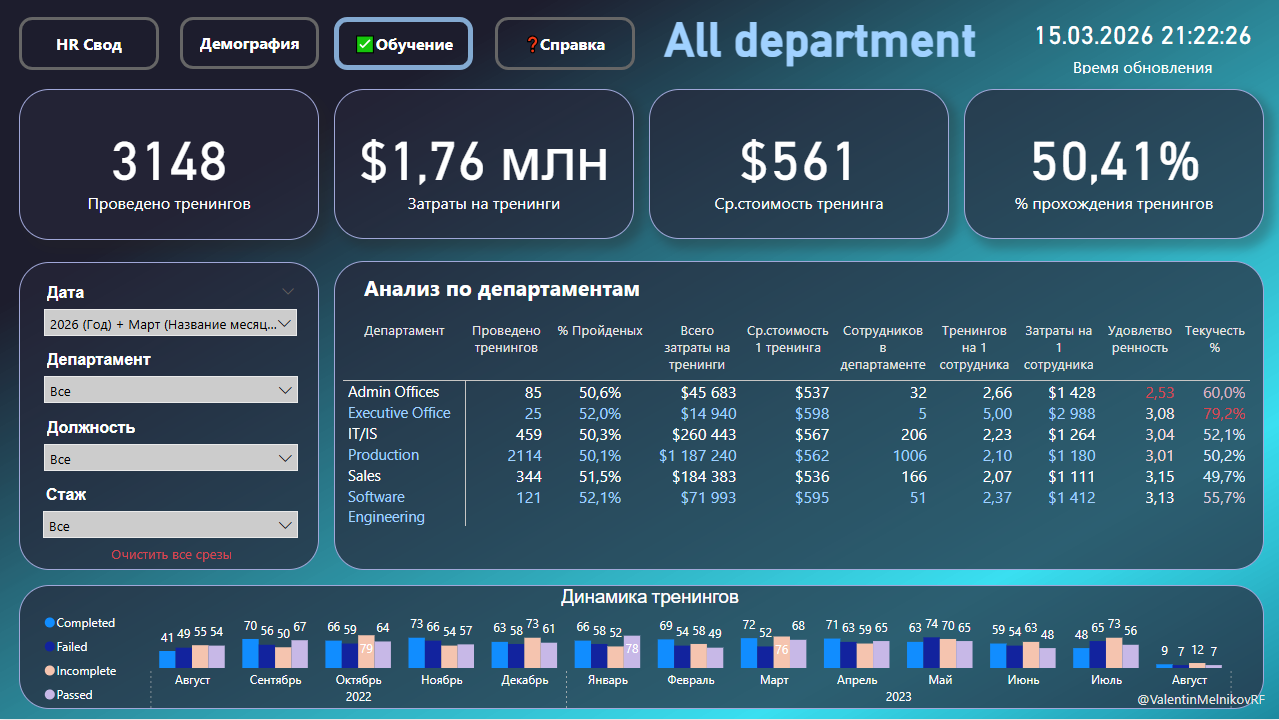

The page's visual inventory and layout, read from the dashboard file:
{"tool":"powerbi","page":{"name":"Обучение","canvas":[1280,720],"ordinal":2},"visuals":[{"type":"textbox","box":[20,586,1245,124],"z":0},{"type":"textbox","box":[20,263,300,308],"z":1000},{"type":"card","fields":{"Values":["Меры.Тренинг Всего"]},"box":[20.3,90.4,300,150.6],"z":2000},{"type":"card","fields":{"Values":["Меры.Тренинг Стоимость"]},"box":[335.3,90.4,300,150],"z":3000},{"type":"textbox","box":[1132.5,685.5,147,34.9],"z":4000},{"type":"card","fields":{"Values":["Меры.Тренинг Ср.стоимость"]},"box":[650.3,90.4,300,150],"z":5000},{"type":"card","fields":{"Values":["Меры.Тренинг % пройден"]},"box":[965.3,90.4,300,150],"z":6000},{"type":"slicer","fields":{"Values":["Календарь.Год","Календарь.Название месяца","Календарь.Дата"]},"box":[34.9,279.5,273.5,67.5],"z":7000},{"type":"textbox","box":[334.9,262.1,930,309.4],"z":8000},{"type":"slicer","fields":{"Values":["employees.department_type"]},"box":[35,347.1,274.5,67.5],"z":9000},{"type":"slicer","fields":{"Values":["employees.job_function"]},"box":[35,414.6,274.5,67.5],"z":10000},{"type":"slicer","fields":{"Values":["employees.Tenure Group"]},"box":[34,482,275,78],"z":11000},{"type":"clusteredColumnChart","title":"Динамика тренингов","fields":{"Series":["trainings.training_outcome"],"Y":["Count(trainings.trainer_id)"],"Category":["trainings.training_date.Изменение.Иерархия дат.Год","trainings.training_date.Изменение.Иерархия дат.Месяц","trainings.training_date.Изменение.Иерархия дат.День"]},"box":[39.5,587.4,1222.2,132.6],"z":12000},{"type":"actionButton","box":[82,539,181,32],"z":13000},{"type":"textbox","box":[360.4,268.7,424.8,44.5],"z":14000},{"type":"pivotTable","fields":{"Rows":["employees.department_type"],"Values":["Меры.Тренинг Всего","Меры.Тренинг % пройден","Меры.Тренинг Стоимость","Меры.Тренинг Ср.стоимость","Меры.Активные сотрудники","Меры.Тренинг на 1 человека","Меры.Тренинг стоимость на 1 сотрудника","Меры.Удовлетворенность","Меры.Текучесть %"]},"box":[338.7,316.9,923.3,261.1],"z":15000},{"type":"card","fields":{"Values":["Min(Время обновления.Дата последнего обновления)"]},"box":[1021.7,9.6,243.4,69.9],"z":16000},{"type":"card","fields":{"Values":["Меры.Департамент"]},"box":[635.7,9.7,371.4,70.2],"z":17000},{"type":"actionButton","box":[19.9,18,140,53],"z":18000},{"type":"actionButton","box":[180.9,17.6,139.6,52.7],"z":19000},{"type":"actionButton","box":[334.5,18.4,139.6,52.7],"z":20000},{"type":"actionButton","box":[496.1,18.4,139.6,52.7],"z":21000}]}

Visuals, with their boxes in screenshot pixels (x1, y1, x2, y2), scaled from the page's 1280x720 canvas onto the 1279x720 screenshot:
textbox: x1=20 y1=586 x2=1264 y2=710
textbox: x1=20 y1=263 x2=320 y2=571
card - Меры.Тренинг Всего: x1=20 y1=90 x2=320 y2=241
card - Меры.Тренинг Стоимость: x1=335 y1=90 x2=635 y2=240
textbox: x1=1132 y1=686 x2=1278 y2=719
card - Меры.Тренинг Ср.стоимость: x1=650 y1=90 x2=950 y2=240
card - Меры.Тренинг % пройден: x1=965 y1=90 x2=1264 y2=240
slicer - Календарь.Год x Календарь.Название месяца: x1=35 y1=280 x2=308 y2=347
textbox: x1=335 y1=262 x2=1264 y2=572
slicer - employees.department_type: x1=35 y1=347 x2=309 y2=415
slicer - employees.job_function: x1=35 y1=415 x2=309 y2=482
slicer - employees.Tenure Group: x1=34 y1=482 x2=309 y2=560
"Динамика тренингов" clusteredColumnChart: x1=39 y1=587 x2=1261 y2=719
actionButton: x1=82 y1=539 x2=263 y2=571
textbox: x1=360 y1=269 x2=785 y2=313
pivotTable - employees.department_type x Меры.Тренинг Всего: x1=338 y1=317 x2=1261 y2=578
card - Min(Время обновления.Дата последнего обновления): x1=1021 y1=10 x2=1264 y2=80
card - Меры.Департамент: x1=635 y1=10 x2=1006 y2=80
actionButton: x1=20 y1=18 x2=160 y2=71
actionButton: x1=181 y1=18 x2=320 y2=70
actionButton: x1=334 y1=18 x2=474 y2=71
actionButton: x1=496 y1=18 x2=635 y2=71
